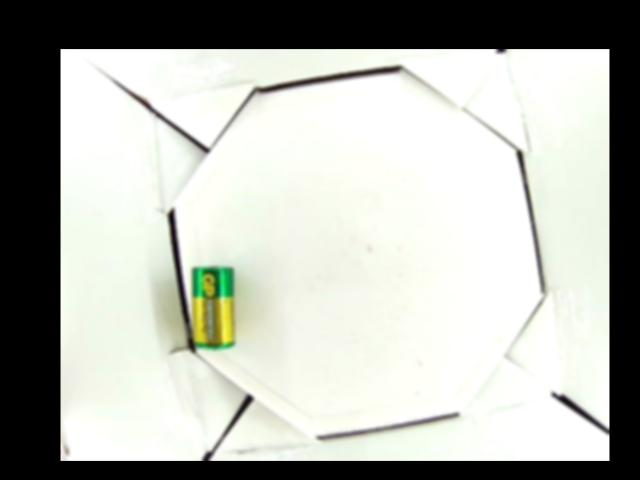Battery: (192, 267, 233, 351)
